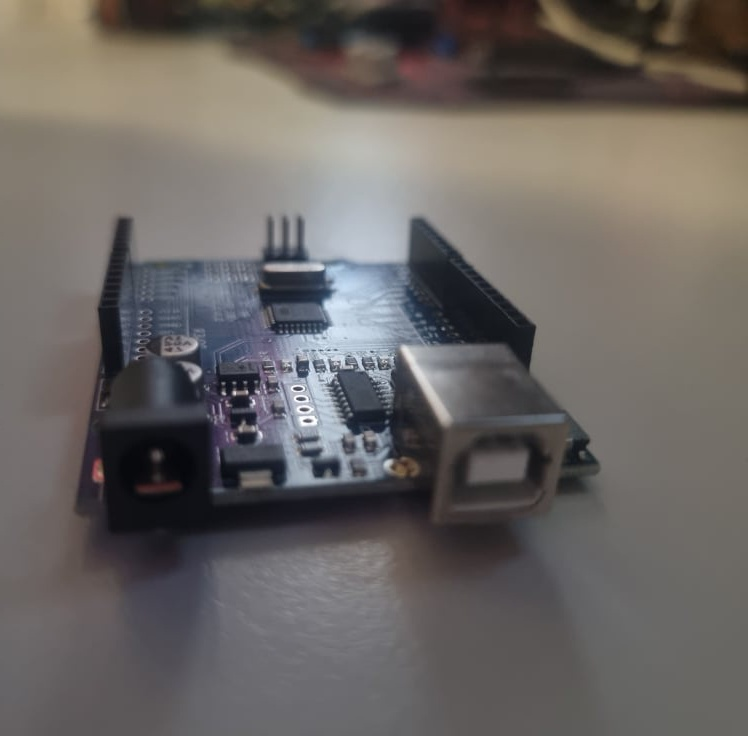UNO R3: (70, 216, 605, 542)
